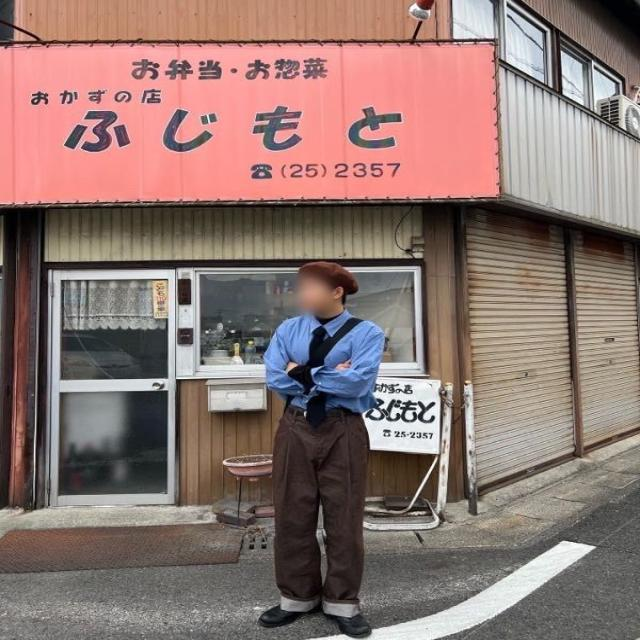cottonpants: (270, 401, 366, 608)
shirt: (268, 306, 389, 412)
